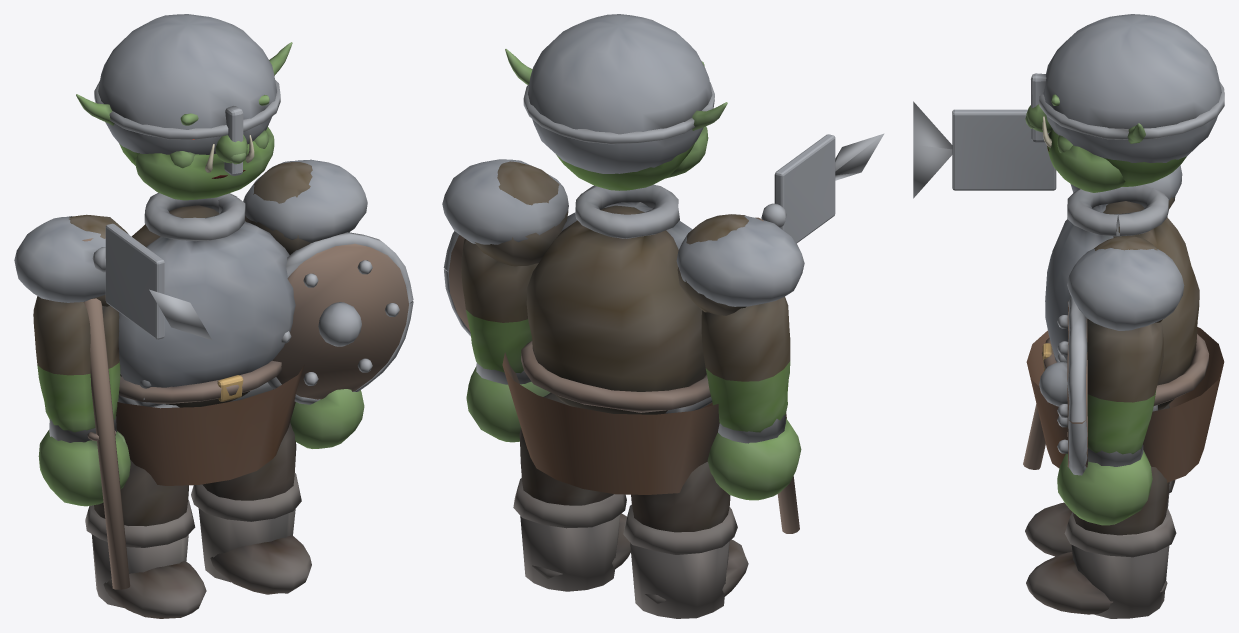
The picture shows the model from 3 angles, left to right: view 1: azimuth 30°, elevation 25°; view 2: azimuth 150°, elevation 25°; view 3: azimuth 270°, elevation 25°; orthographic projection. The views are drawn at different scales.
Visible parts, largest first — view 1: torso, head, armL, armR, legL, weapon, legR; view 2: torso, head, armR, legR, armL, legL, weapon; view 3: torso, head, armL, legL, weapon, legR.
Boxes of the visible parts, box(x1,y1,x2,y2) form: torso: box(14, 159, 367, 485); head: box(76, 14, 292, 200); armL: box(267, 232, 413, 448); armR: box(33, 296, 130, 506); legL: box(191, 422, 311, 594); weapon: box(82, 223, 212, 589); legR: box(85, 459, 206, 618); torso: box(442, 159, 804, 494); head: box(505, 14, 727, 190); armR: box(701, 297, 801, 500); legR: box(623, 462, 748, 618); armL: box(443, 231, 550, 442); legL: box(513, 392, 630, 591); weapon: box(755, 133, 884, 533); torso: box(1026, 165, 1224, 482); head: box(1025, 14, 1224, 192); armL: box(1039, 296, 1163, 525); legL: box(1026, 466, 1176, 618); weapon: box(913, 101, 1056, 469); legR: box(1025, 404, 1175, 556).
Bounding box in the file's own units: 0.6568 × 0.9592 × 0.4847.
